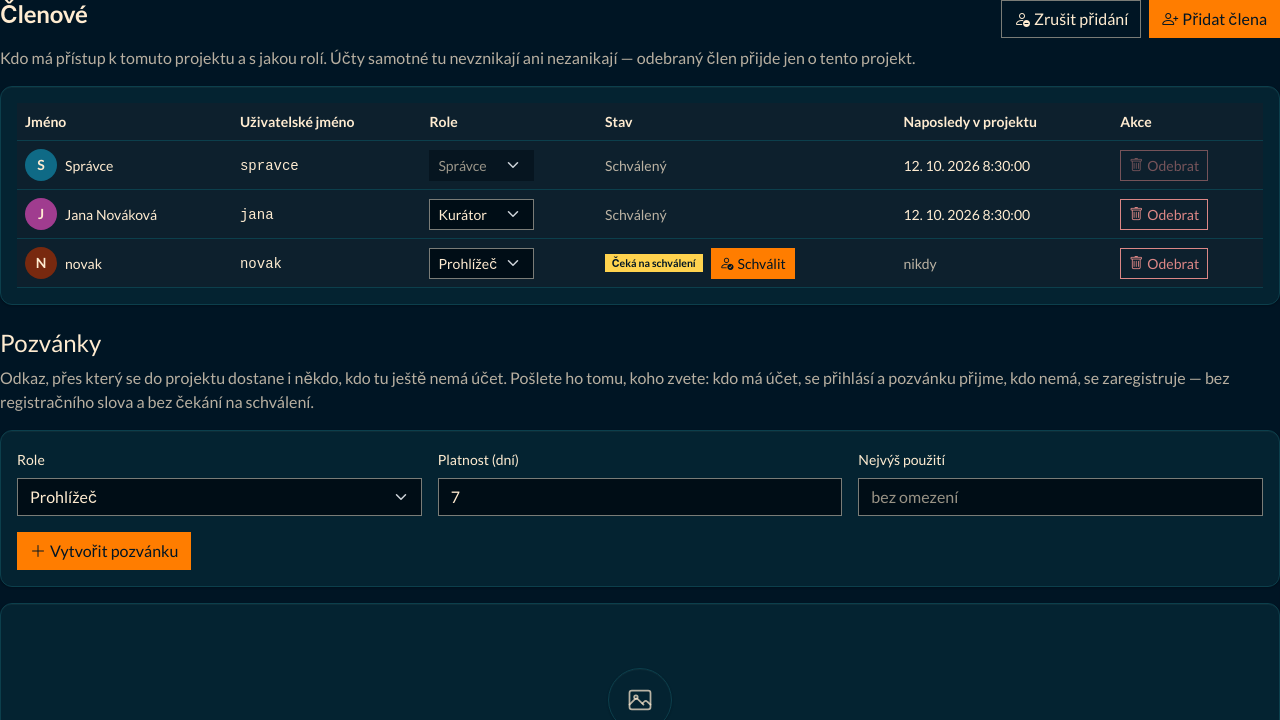
Test case: MembersPage › adds a member and answers with the neutral sentence
expect the text "jana" is shown: met, box [240,206,274,222]
Click the button "Přidat člena": (1215, 19) [1149,0,1279,38]
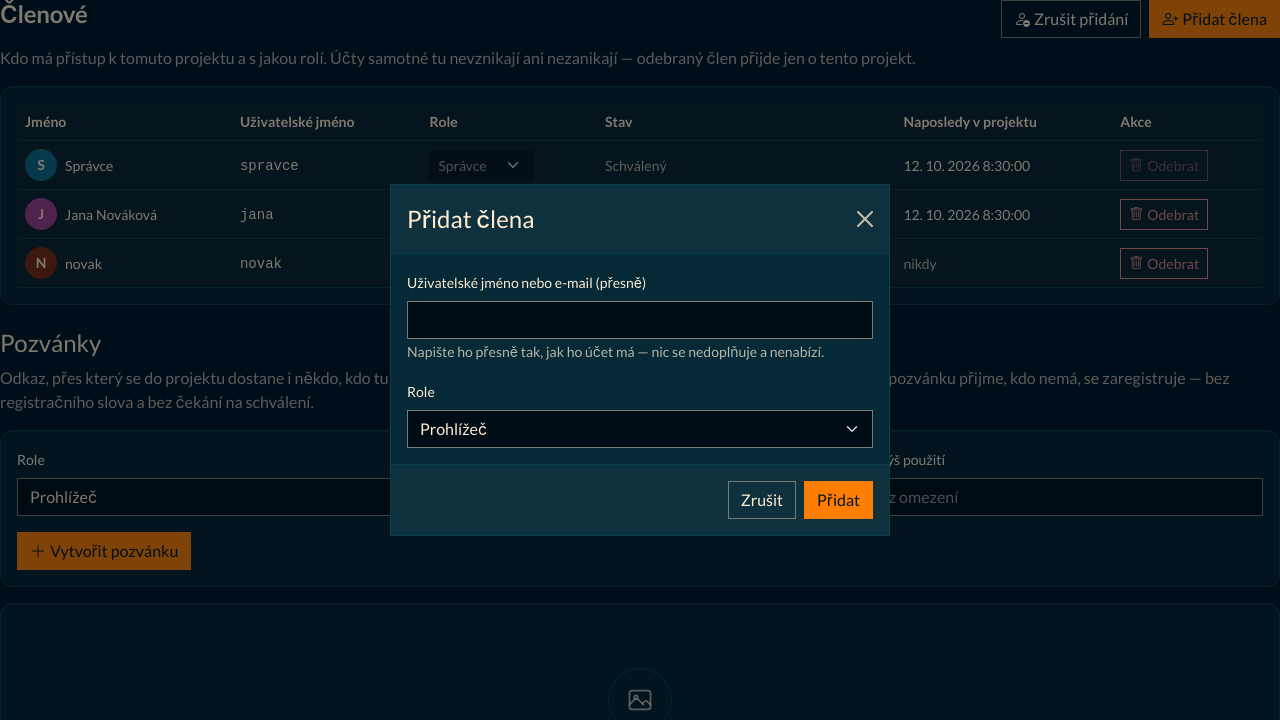
In the field labelled "Uživatelské jméno nebo e-mail (přesně)": (640, 320) [407,301,873,339], type " petr@example.org "
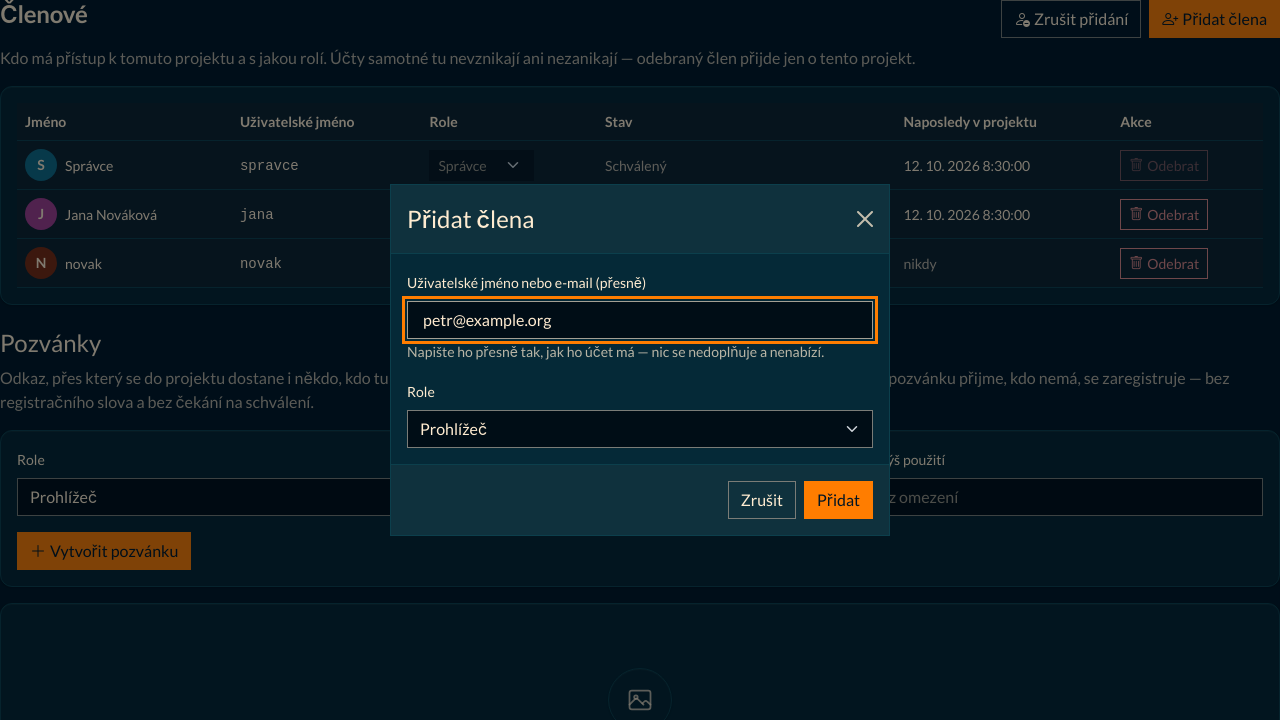
Select "Editor" in the dropdown labelled "Role": (640, 429) [407,410,873,448]
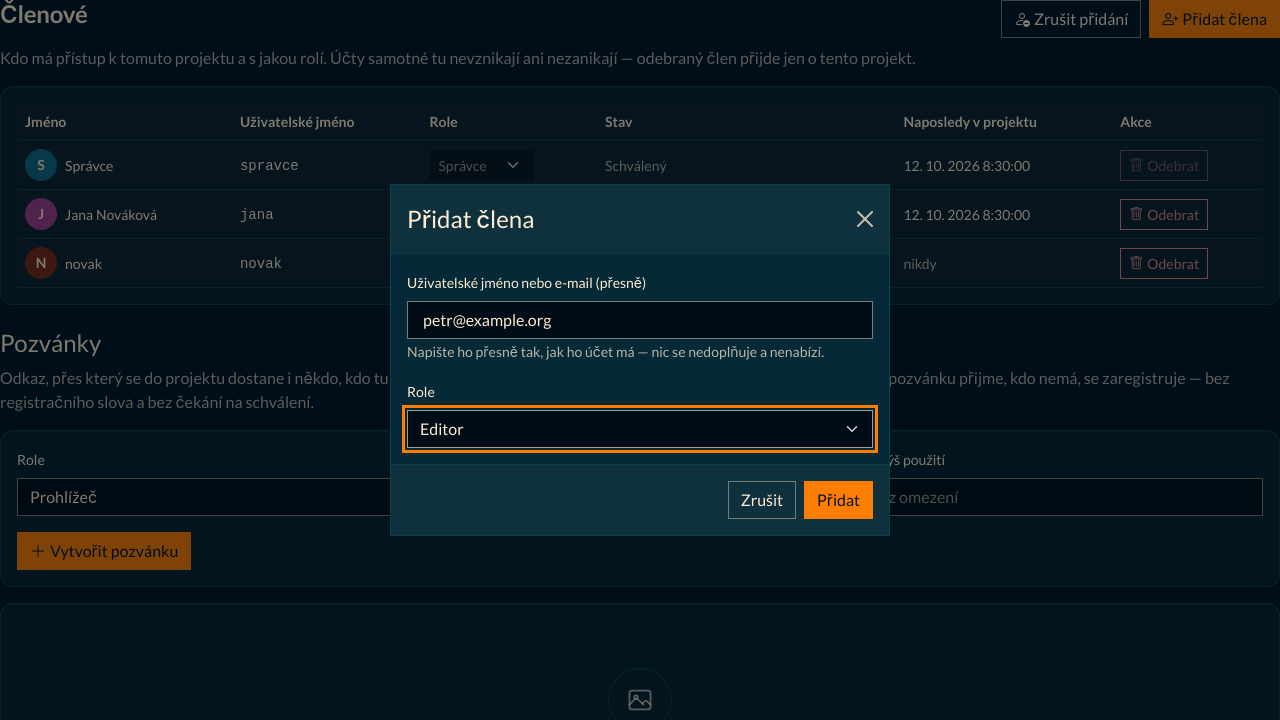
Click the button "Přidat": (839, 500) [804,481,873,519]
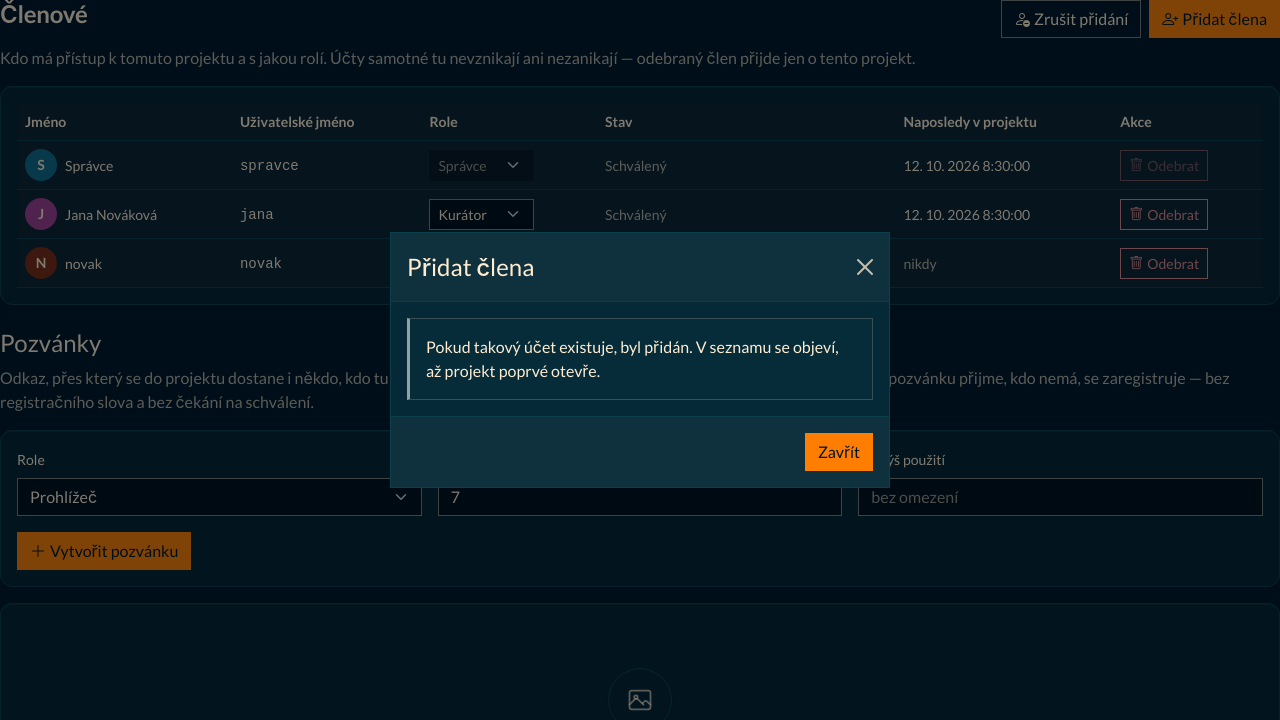
expect the text "Pokud takový účet existuje, byl přidán. V seznamu se objeví, až projekt poprvé otevře." is shown: met, box [426,337,839,380]
